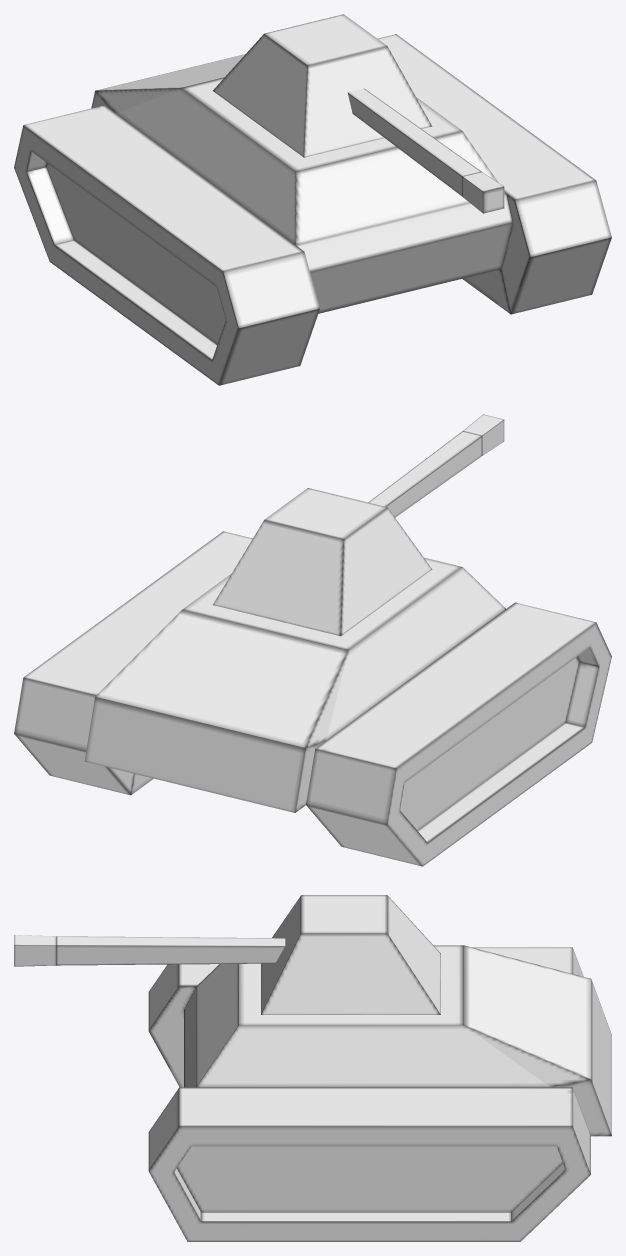
Rendered from Tank-01.fbx.
3 views of the same model, one above another, from view 1: azimuth 30°, elevation 25°; view 2: azimuth 150°, elevation 25°; view 3: azimuth 270°, elevation 25° (orthographic).
Parts seen in each view (by area): view 1: Tank_01, Tank_01_Turret, Tank_01_Gun; view 2: Tank_01, Tank_01_Turret, Tank_01_Gun; view 3: Tank_01, Tank_01_Turret, Tank_01_Gun.
Part boxes in pixels (x1=…): Tank_01: x1=14, y1=34, x2=611, y2=385; Tank_01_Turret: x1=213, y1=14, x2=432, y2=157; Tank_01_Gun: x1=347, y1=88, x2=504, y2=213; Tank_01: x1=14, y1=531, x2=611, y2=866; Tank_01_Turret: x1=213, y1=488, x2=432, y2=636; Tank_01_Gun: x1=368, y1=414, x2=504, y2=517; Tank_01: x1=148, y1=945, x2=611, y2=1241; Tank_01_Turret: x1=261, y1=895, x2=440, y2=1014; Tank_01_Gun: x1=14, y1=935, x2=285, y2=966.
Bounding box in the file's own units: 0.804 × 0.4982 × 1.13.
